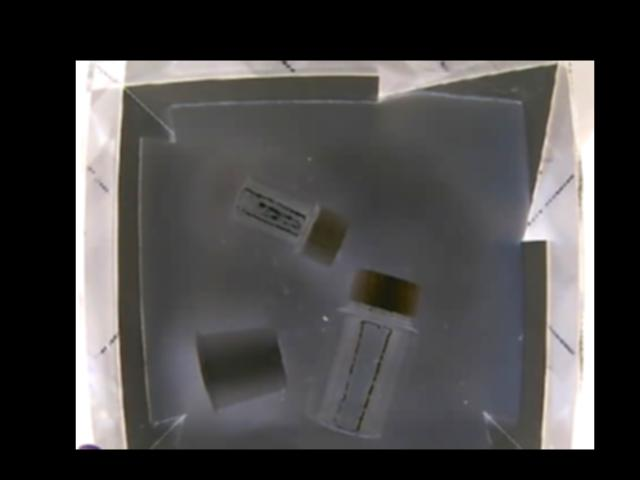Bottle: (308, 263, 422, 436), (224, 172, 348, 265)
Cup: (188, 328, 292, 410)
